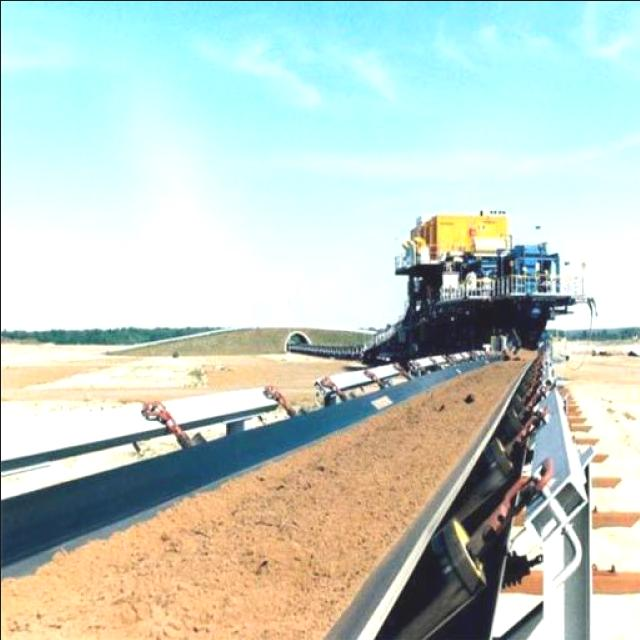conveyor: (0, 349, 537, 640)
